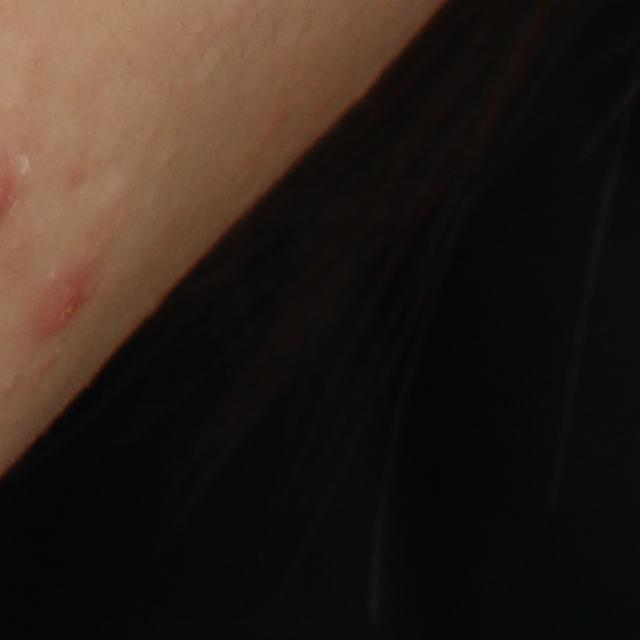papule: (31, 266, 93, 340)
